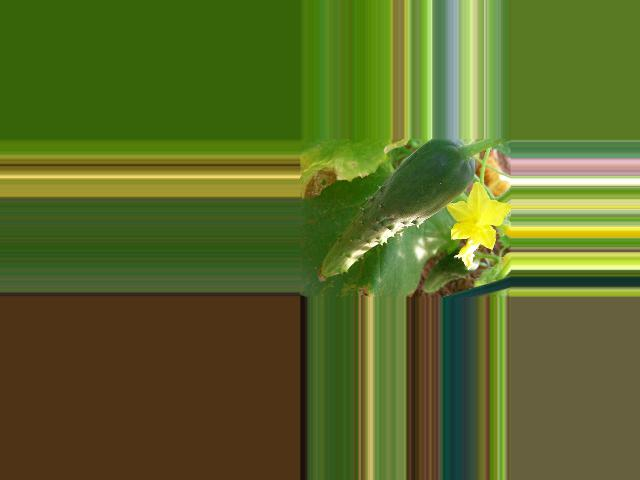cucumber: (317, 138, 475, 282)
